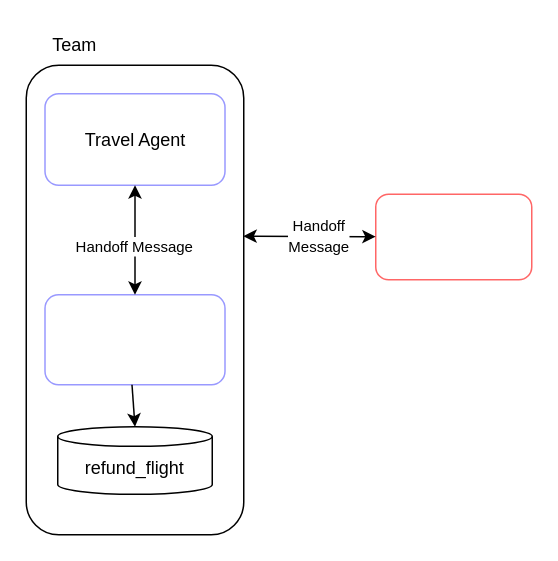
This 558x561 diagram has some shape labels left out. Here are the shapes that lost their labels. From the top down, the centre of each, then its label:
At (453,236): "Application/User".
At (134,339): "Flights Refunder Agent".
